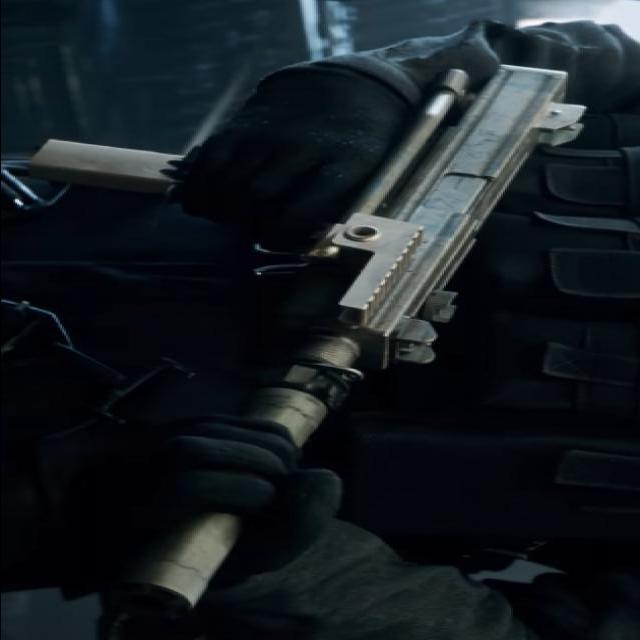smg: (10, 71, 584, 611)
